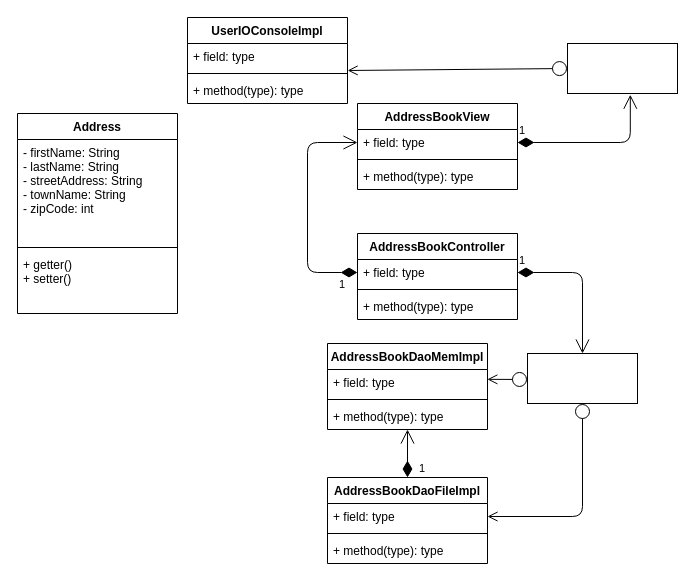
This 695x584 diagram has some shape labels left out. The centre of each missing label's shape, as x and y in pixels:
«interface» AddressBookDao: the point at 582,378
«interface» UserIO: the point at 622,68
